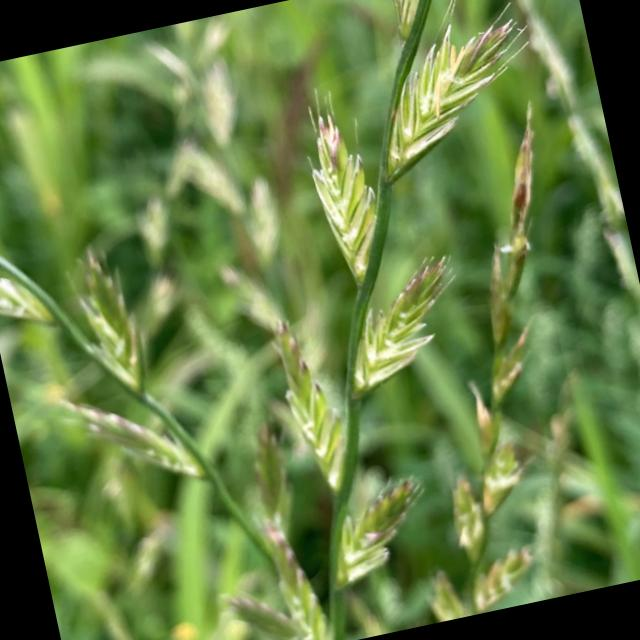Lolium: (195, 0, 624, 640), (0, 173, 341, 640), (333, 116, 637, 624)
